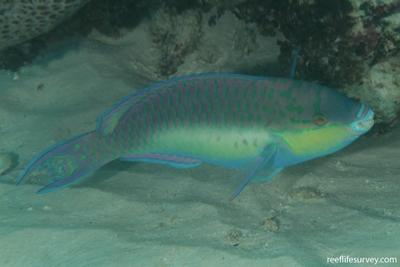Scaridae -Parrotfishes-: (11, 46, 377, 204)
